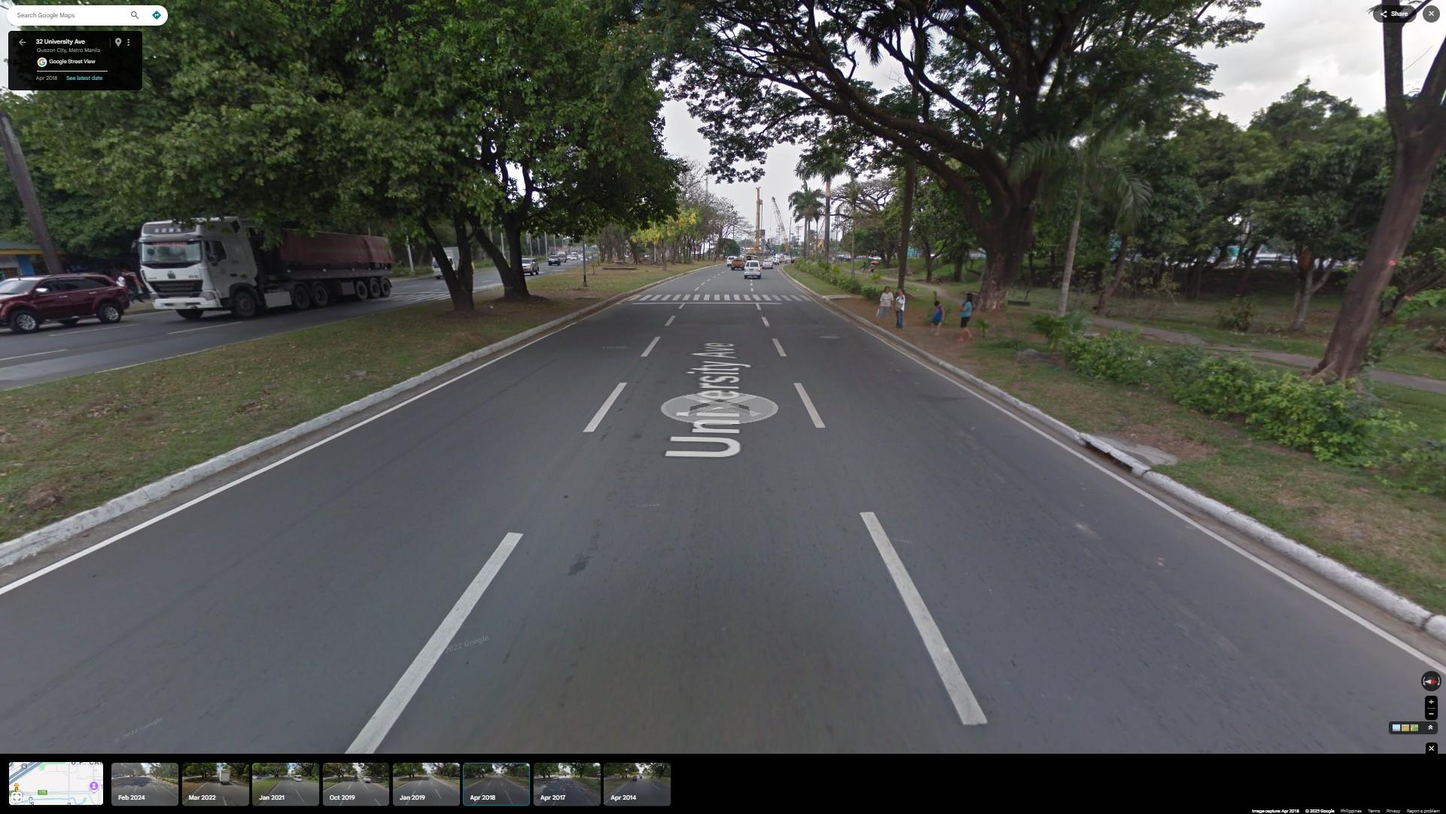pedestrian: (953, 293, 974, 343), (874, 285, 894, 327), (928, 299, 946, 337), (893, 287, 906, 331), (869, 261, 876, 276), (861, 261, 867, 275)
